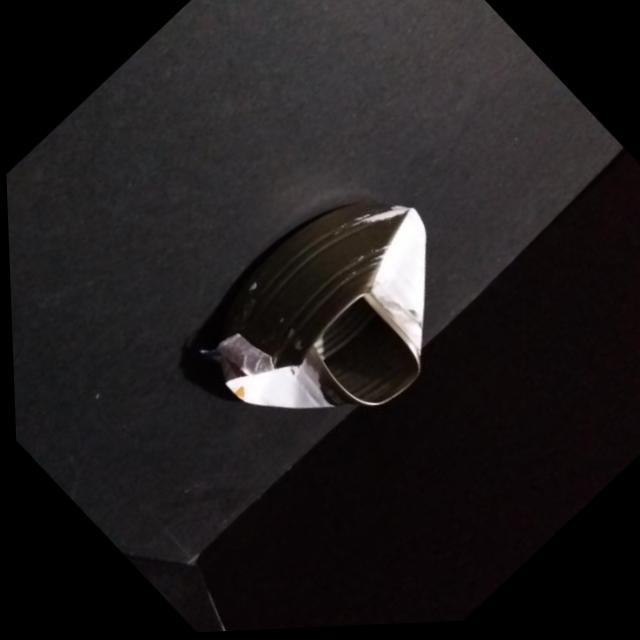metal: (189, 201, 425, 408)
